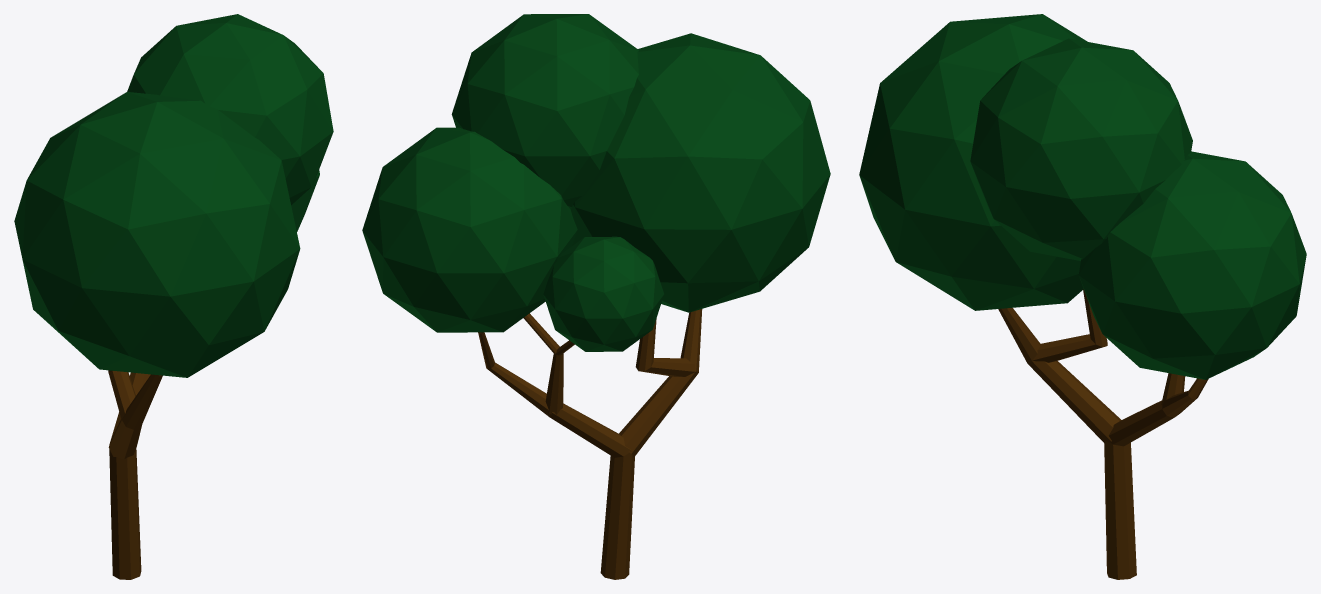
Rendered from Arvore_LowPoly.fbx.
3 renders of one model, left to right at view 1: azimuth 30°, elevation 25°; view 2: azimuth 150°, elevation 25°; view 3: azimuth 270°, elevation 25°, orthographic. The views are drawn at different scales.
Parts seen in each view (by area): view 1: Icosphere.002, Cube.005; view 2: Icosphere.002, Cube.005; view 3: Icosphere.002, Cube.005.
Part boxes in pixels (x1=…): Icosphere.002: x1=14, y1=14, x2=333, y2=377; Cube.005: x1=108, y1=370, x2=162, y2=579; Icosphere.002: x1=362, y1=14, x2=830, y2=351; Cube.005: x1=478, y1=309, x2=702, y2=579; Icosphere.002: x1=859, y1=14, x2=1306, y2=379; Cube.005: x1=998, y1=289, x2=1208, y2=579.
Size of the model in its own units: 565 by 810 by 578.
